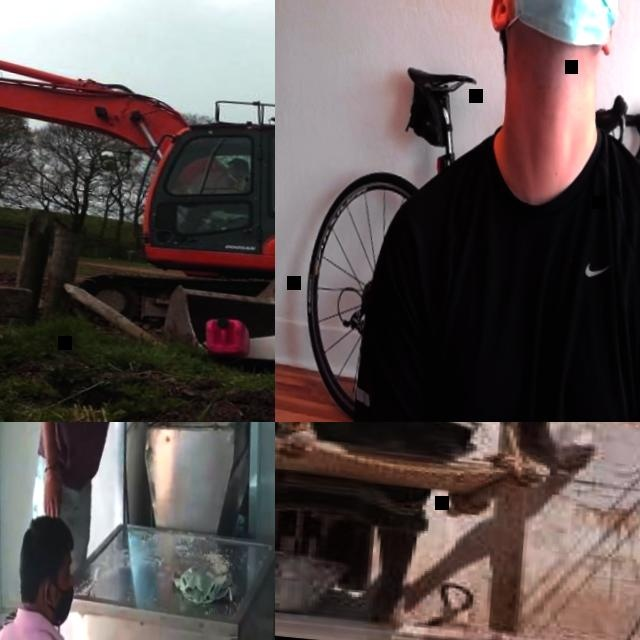Mask: (493, 0, 622, 50), (42, 584, 75, 624)
NO-Hardhat: (9, 504, 91, 597), (226, 155, 248, 166)
NO-Safety Vest: (393, 122, 640, 422), (47, 422, 118, 488)
Person: (346, 0, 640, 422), (275, 422, 598, 640), (22, 422, 201, 596), (0, 503, 144, 640), (176, 149, 253, 239)
machinery: (0, 0, 275, 382)
